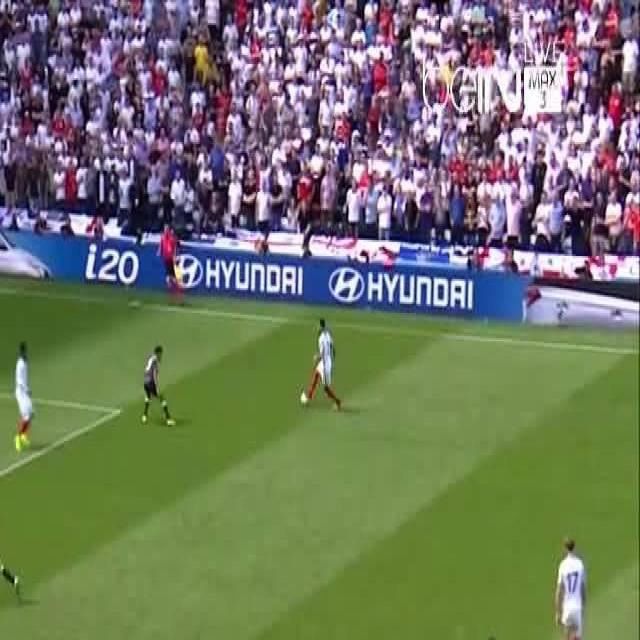ball: (300, 390, 310, 405)
player-white: (307, 318, 341, 412), (556, 535, 585, 640), (142, 345, 176, 426), (12, 341, 34, 450), (0, 482, 18, 597), (158, 225, 182, 309), (471, 634, 503, 640)
